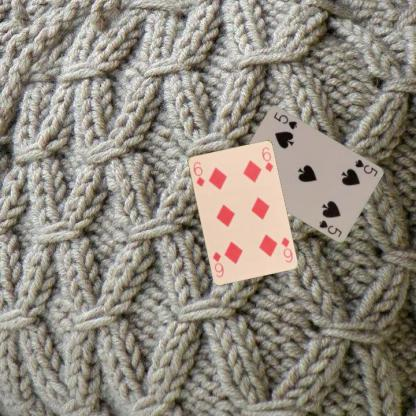5s: (352, 157, 379, 178)
6d: (278, 234, 294, 264), (190, 159, 206, 188)
